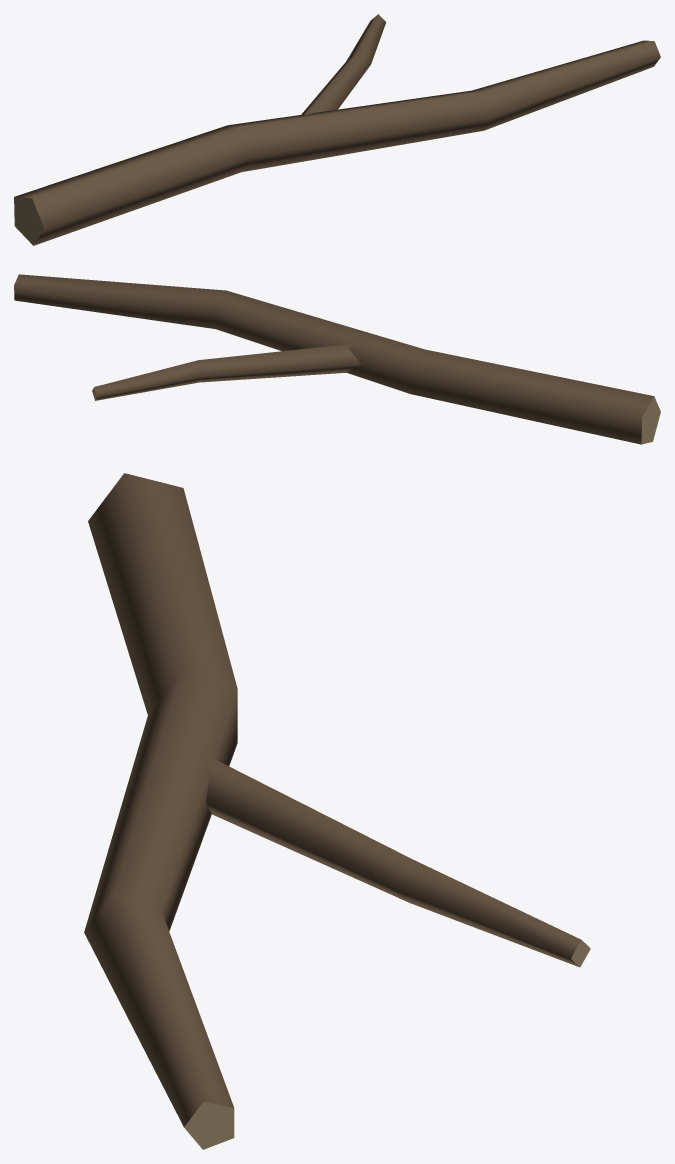
The picture shows the model from 3 angles, top to bottom: view 1: azimuth 30°, elevation 25°; view 2: azimuth 150°, elevation 25°; view 3: azimuth 270°, elevation 25°; orthographic projection. The views are drawn at different scales.
Parts seen in each view (by area): view 1: meadow-stick-a; view 2: meadow-stick-a; view 3: meadow-stick-a.
Boxes of the visible parts, x1=… form: meadow-stick-a: x1=14, y1=14, x2=660, y2=245; meadow-stick-a: x1=14, y1=274, x2=660, y2=444; meadow-stick-a: x1=84, y1=473, x2=590, y2=1149.
Size of the model in its own units: 2.02 by 0.1579 by 0.7141.
